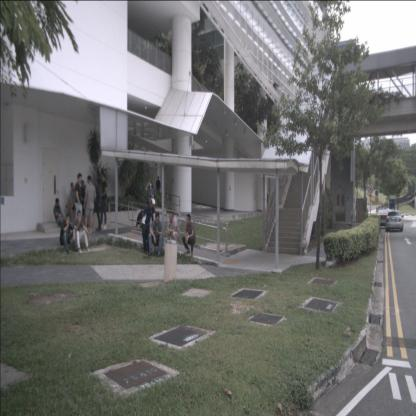human-pedestrian-adult: (141, 198, 163, 256), (72, 209, 92, 254), (83, 175, 96, 234), (60, 213, 78, 255), (53, 197, 75, 230), (148, 212, 163, 258), (181, 213, 196, 258), (77, 180, 90, 228), (74, 172, 84, 233), (166, 210, 181, 250), (99, 172, 108, 230), (145, 180, 156, 226), (93, 177, 102, 232), (66, 182, 78, 223), (136, 206, 148, 234), (155, 175, 162, 204), (266, 188, 271, 210), (353, 198, 356, 223)
vehicle-car: (386, 210, 403, 232), (377, 207, 393, 230)
